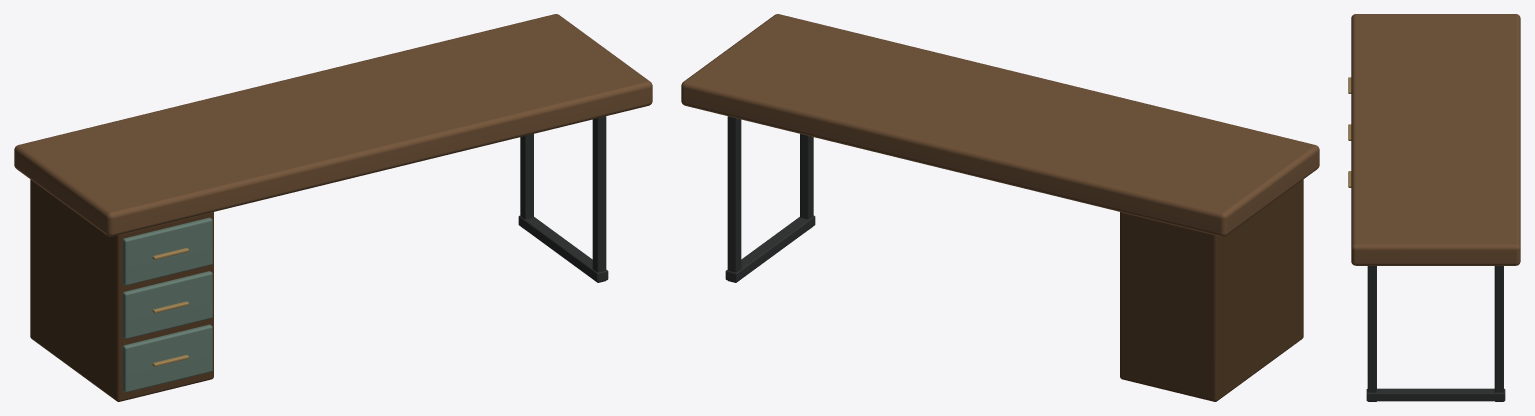
Rendered from desk.glb.
The picture shows the model from 3 angles, left to right: view 1: azimuth 30°, elevation 25°; view 2: azimuth 150°, elevation 25°; view 3: azimuth 270°, elevation 25°; orthographic projection. The views are drawn at different scales.
Parts seen in each view (by area): view 1: Oak desk top, Pedestal, Drawer.002, Drawer.001, Drawer, Steel frame upright.001, Steel frame foot, Steel frame upright; view 2: Oak desk top, Pedestal, Steel frame upright, Steel frame foot, Steel frame upright.001; view 3: Oak desk top, Steel frame foot, Steel frame upright.001, Steel frame upright.
Part boxes in pixels (bbox=[...]): Oak desk top: bbox=[14, 14, 652, 236]; Pedestal: bbox=[30, 179, 213, 401]; Drawer.002: bbox=[122, 324, 212, 392]; Drawer.001: bbox=[122, 271, 212, 338]; Drawer: bbox=[122, 217, 212, 285]; Steel frame upright.001: bbox=[592, 116, 606, 282]; Steel frame foot: bbox=[518, 215, 608, 282]; Steel frame upright: bbox=[520, 134, 533, 219]; Oak desk top: bbox=[681, 14, 1319, 236]; Pedestal: bbox=[1120, 179, 1303, 401]; Steel frame upright: bbox=[727, 116, 741, 282]; Steel frame foot: bbox=[725, 215, 815, 282]; Steel frame upright.001: bbox=[800, 134, 813, 219]; Oak desk top: bbox=[1351, 14, 1520, 265]; Steel frame foot: bbox=[1366, 388, 1505, 401]; Steel frame upright.001: bbox=[1367, 266, 1376, 401]; Steel frame upright: bbox=[1494, 266, 1503, 401].
Size of the model in its own units: 2.35 by 0.81 by 0.732.
